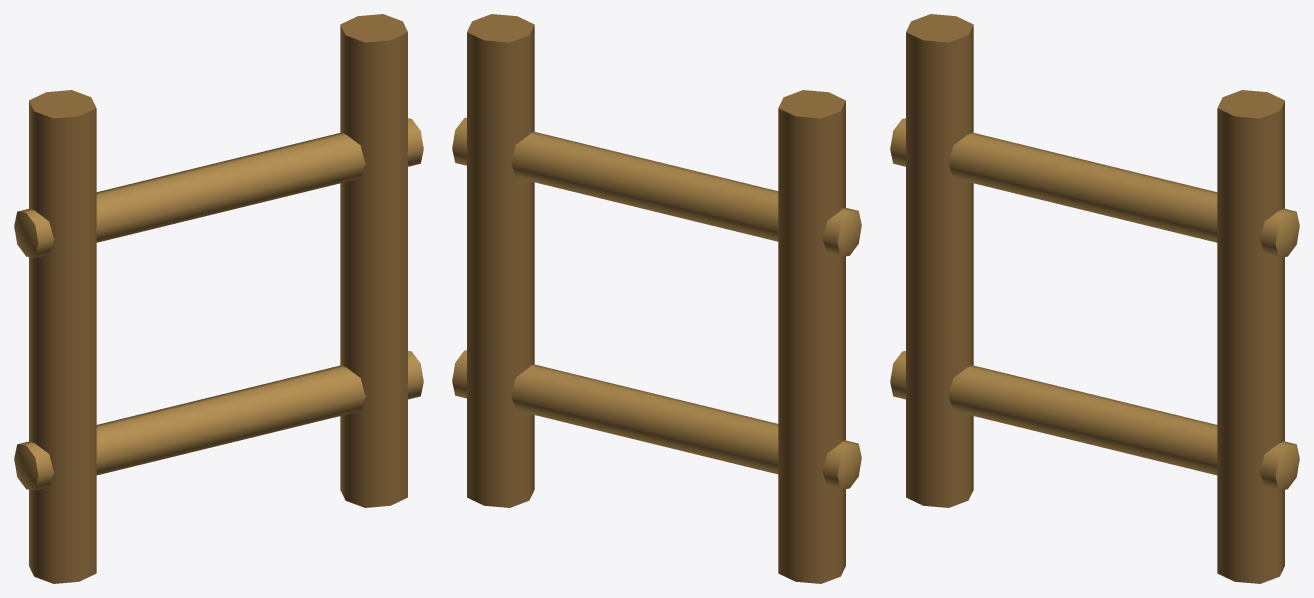
File: stairs.glb
3 renders of one model, left to right at view 1: azimuth 30°, elevation 25°; view 2: azimuth 150°, elevation 25°; view 3: azimuth 330°, elevation 25°, orthographic.
Visible parts, largest first — view 1: Stairs; view 2: Stairs; view 3: Stairs.
Part boxes in pixels (left/top/right/bottom): Stairs: left=14, top=14, right=423, bottom=583; Stairs: left=452, top=14, right=861, bottom=583; Stairs: left=890, top=14, right=1299, bottom=583.
Size of the model in its own units: 1.77 by 2 by 0.2575.
